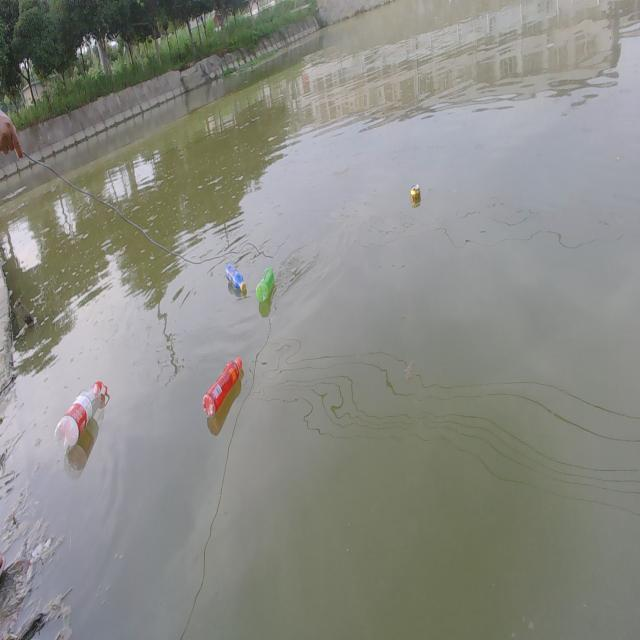garbage: (54, 379, 108, 452), (202, 356, 242, 418), (225, 262, 247, 296), (256, 266, 275, 302)
